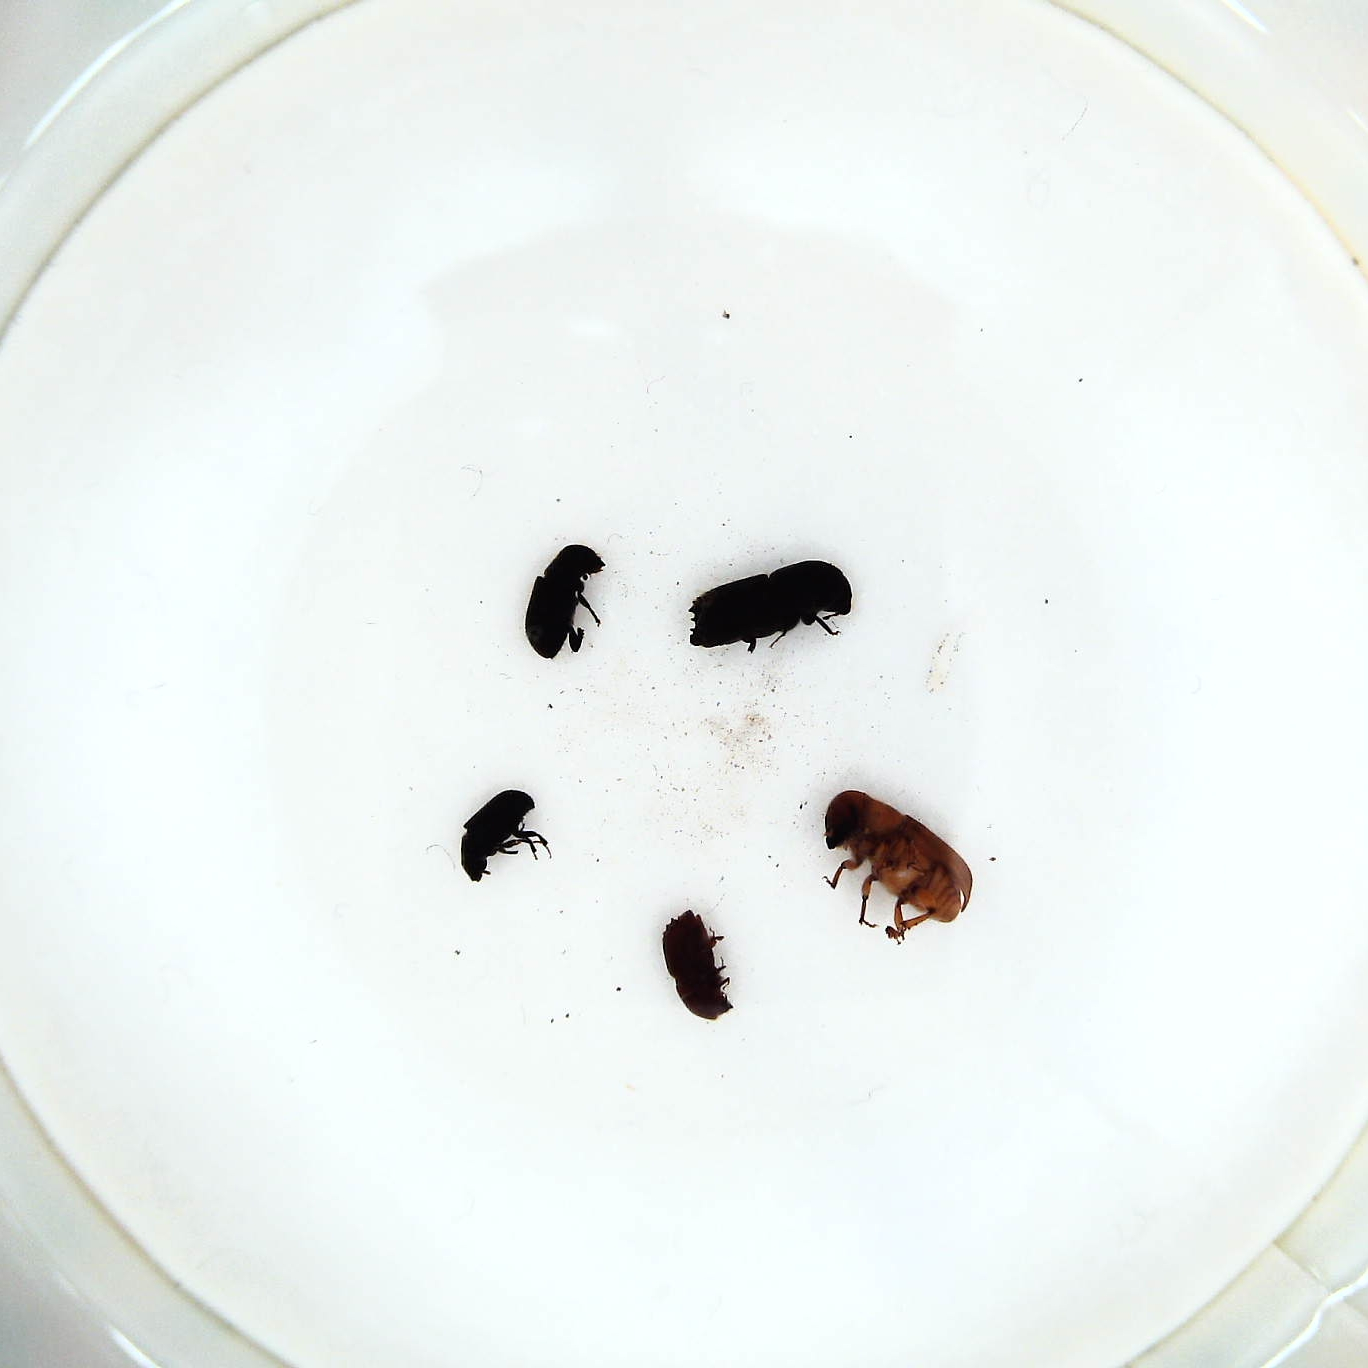Boerner: (687, 557, 862, 656)
Leconte: (823, 783, 976, 946)
armandi: (525, 541, 606, 666)
coleoptera: (459, 785, 552, 888)
linnaeus: (656, 907, 735, 1027)
